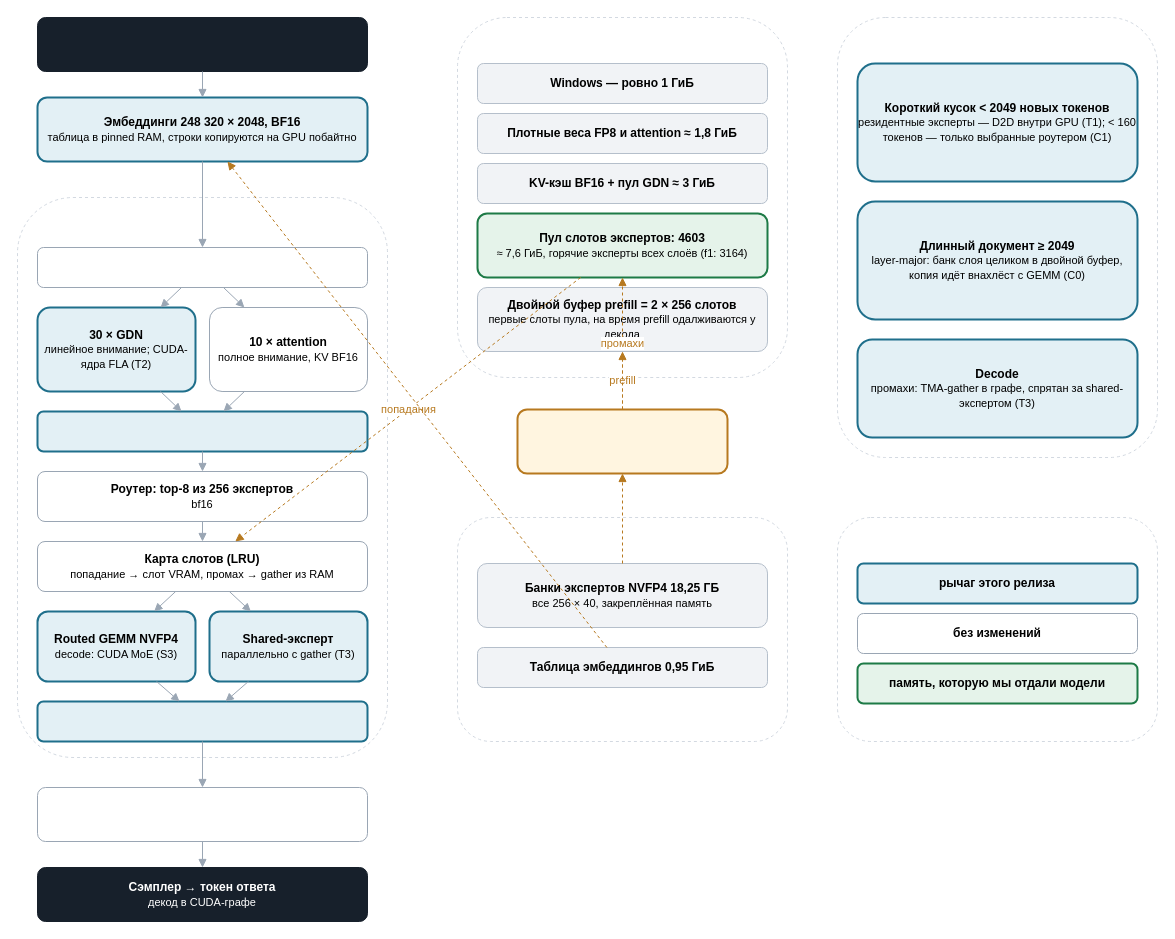
This 1175x939 diagram has some shape labels left out. The shapes that lost their labels are listed below. From the top down, each one's box as (x1, y1, x2, y2) in pixels, then its label:
(36, 16, 368, 72): Токены запроса chat-шаблон; prefix-кэш отрезает уже посчитанное
(456, 16, 788, 378): VRAM 16 ГБ (RTX 5070 Ti)
(836, 16, 1158, 458): Prefill: два маршрута
(36, 246, 368, 288): RMSNorm
(36, 410, 368, 452): o-proj FP8 GEMV (S3) + residual → RMSNorm
(516, 408, 728, 474): PCIe ~41–49 ГБ/с copy engine и TMA-gather
(16, 196, 388, 758): × 40 слоёв декодера
(456, 516, 788, 742): RAM хоста
(836, 516, 1158, 742): Обозначения
(36, 700, 368, 742): Эпилог: routed + σ(gate)·shared — одно ядро (D5)
(36, 786, 368, 842): Финальная норма → lm_head NVFP4
